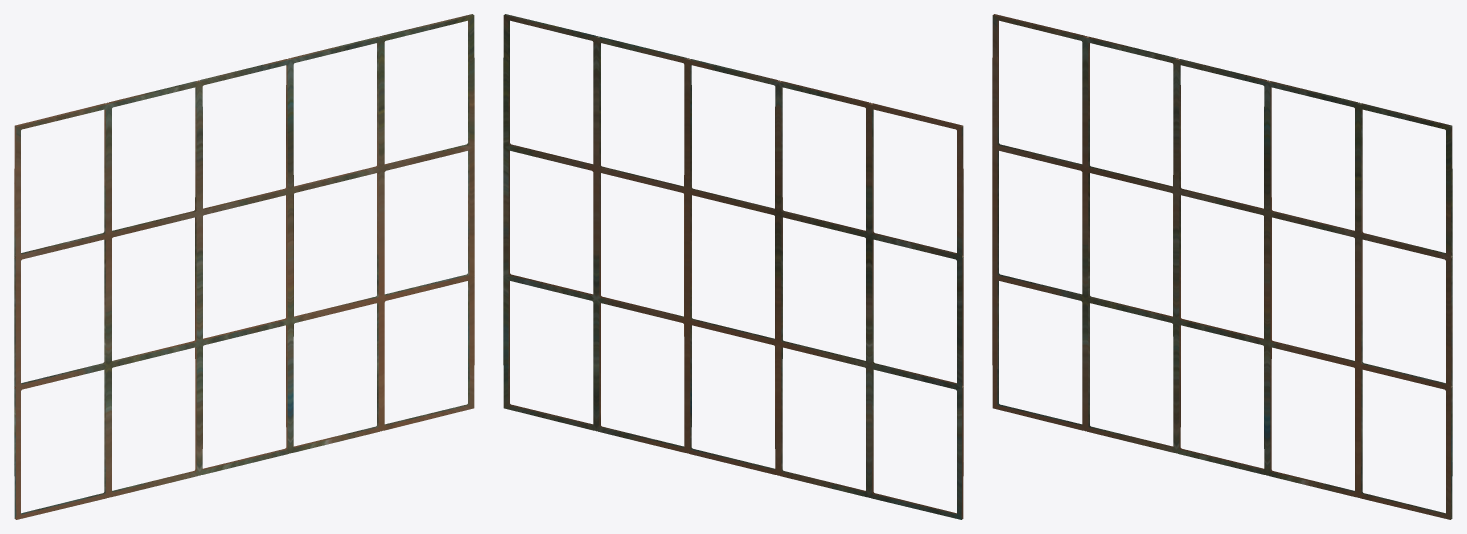
The model's file is frame.glb.
3 renders of one model, left to right at view 1: azimuth 30°, elevation 25°; view 2: azimuth 150°, elevation 25°; view 3: azimuth 330°, elevation 25°, orthographic.
Parts seen in each view (by area): view 1: Cube.002; view 2: Cube.002; view 3: Cube.002.
Boxes of the visible parts, box(x1,y1,x2,y2) form: Cube.002: box(14, 14, 474, 519); Cube.002: box(503, 14, 963, 519); Cube.002: box(992, 14, 1452, 519).
Bounding box in the file's own units: 12.98 × 10.64 × 0.0769.
1 material, 1 textured.
